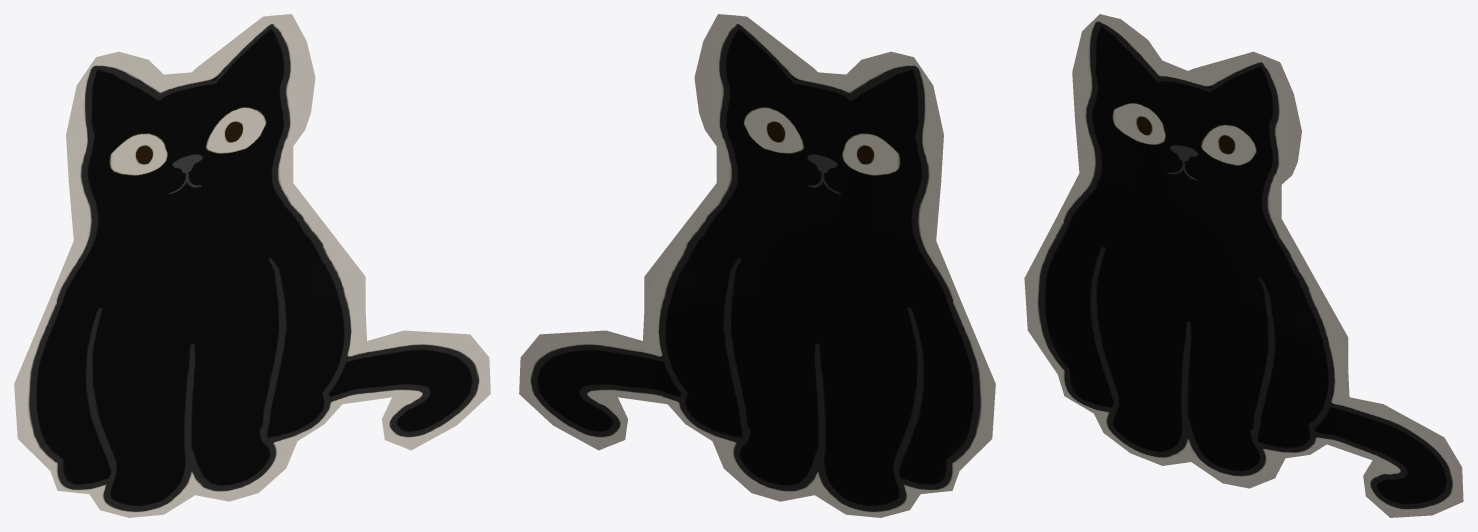
File: GatoPared.fbx
3 views of the same model, side by side, from view 1: azimuth 30°, elevation 25°; view 2: azimuth 150°, elevation 25°; view 3: azimuth 330°, elevation 25° (orthographic). The views are drawn at different scales.
Visible parts, largest first — view 1: Plane; view 2: Plane; view 3: Plane.
Boxes of the visible parts, x1=… form: Plane: x1=14, y1=14, x2=490, y2=517; Plane: x1=519, y1=14, x2=995, y2=517; Plane: x1=1024, y1=14, x2=1463, y2=517.
Bounding box in the file's own units: 147 × 141 × 6.16e-06.
Materials: 1 (1 with a texture image).
